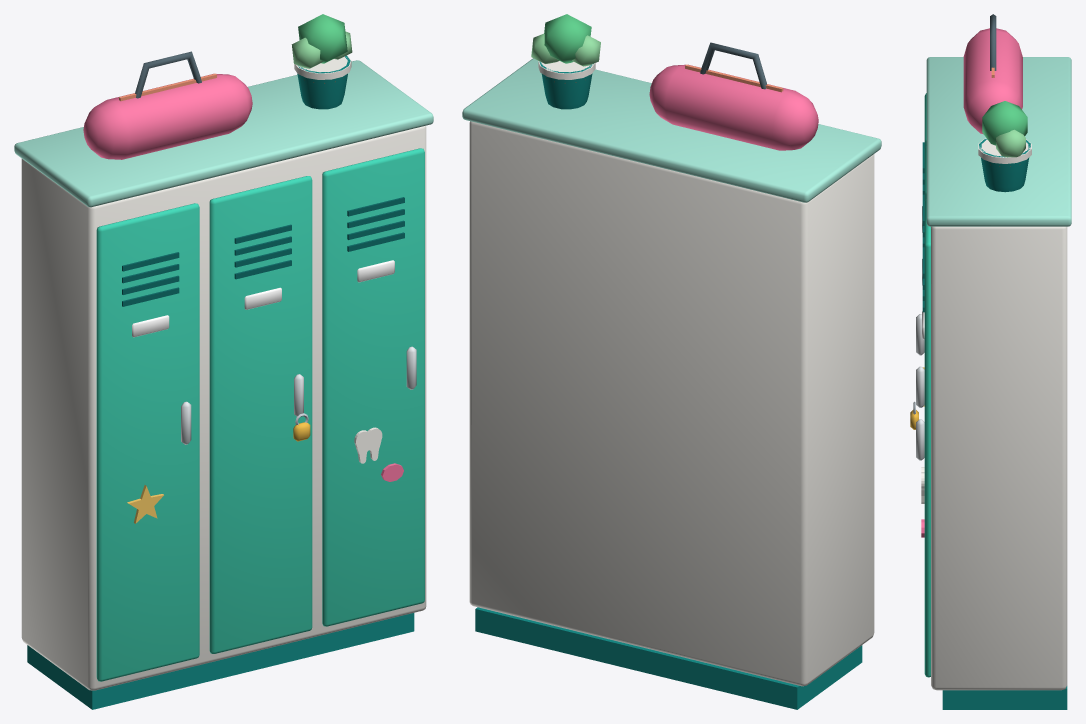
Rendered from staff_lockers.glb.
The picture shows the model from 3 angles, left to right: view 1: azimuth 30°, elevation 25°; view 2: azimuth 150°, elevation 25°; view 3: azimuth 270°, elevation 25°; orthographic projection. The views are drawn at different scales.
Parts seen in each view (by area): view 1: StaffLockers; view 2: StaffLockers; view 3: StaffLockers.
Part boxes in pixels (box(x1,y1,x2,y2)): StaffLockers: box(14, 14, 433, 709); StaffLockers: box(462, 14, 881, 709); StaffLockers: box(910, 14, 1071, 709).
Bounding box in the file's own units: 1.29 × 2.17 × 0.545.
